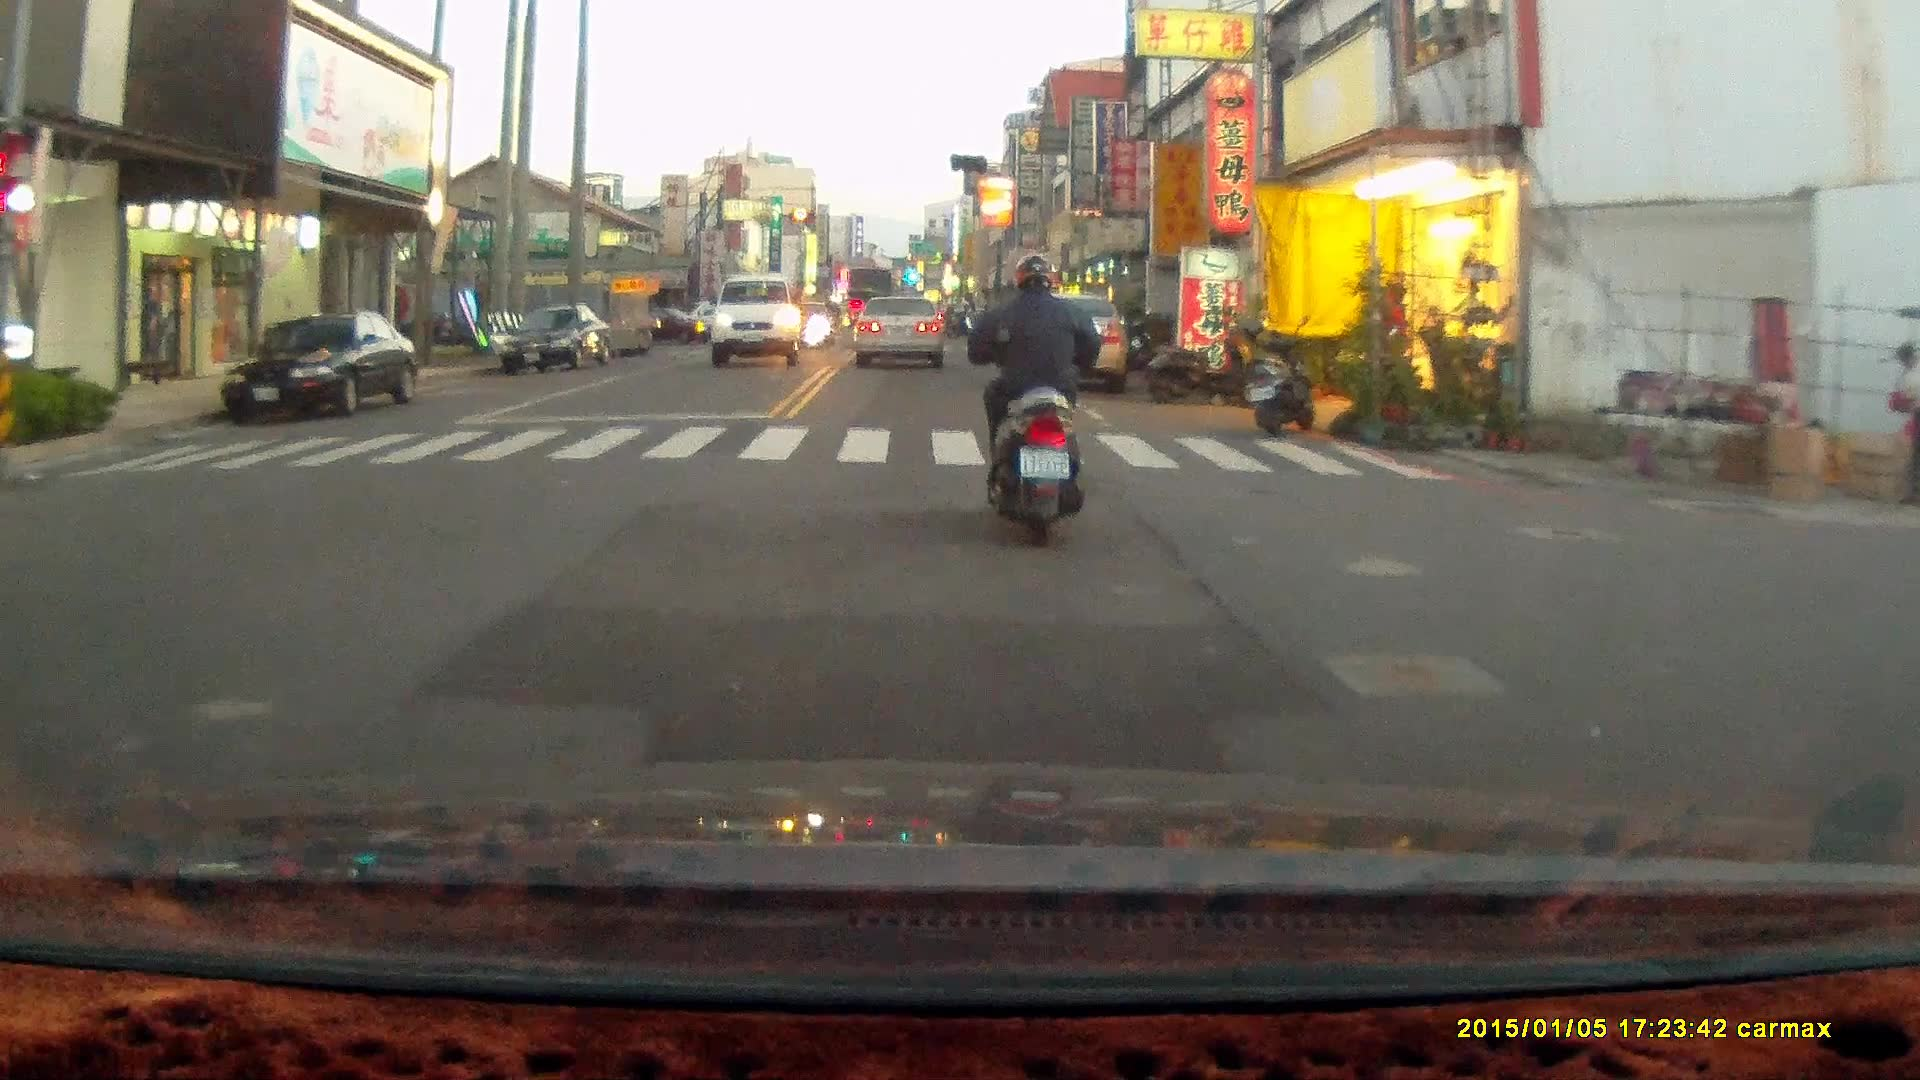pedestrian: (1891, 340, 1920, 506)
rider: (961, 250, 1096, 548)
vehicle: (216, 315, 415, 421), (1009, 290, 1133, 392), (708, 275, 803, 371), (499, 302, 613, 376), (859, 296, 958, 367)
